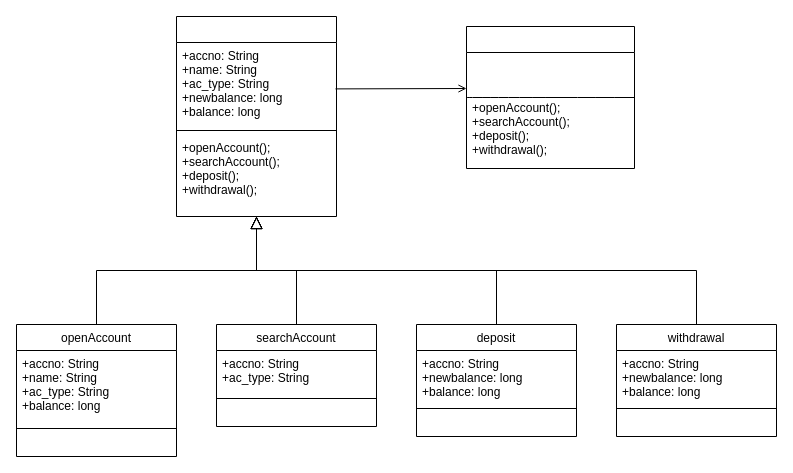
The diagram is 793 pixels wide and 473 high, and some of its shapes have lost their labels. The shapes that lost their labels are listed below. From the top down, each one's box as (x1, y1, x2, y2) in pixels, then its label:
(176, 16, 336, 216): BankDetailed
(466, 26, 634, 168): MainApp
